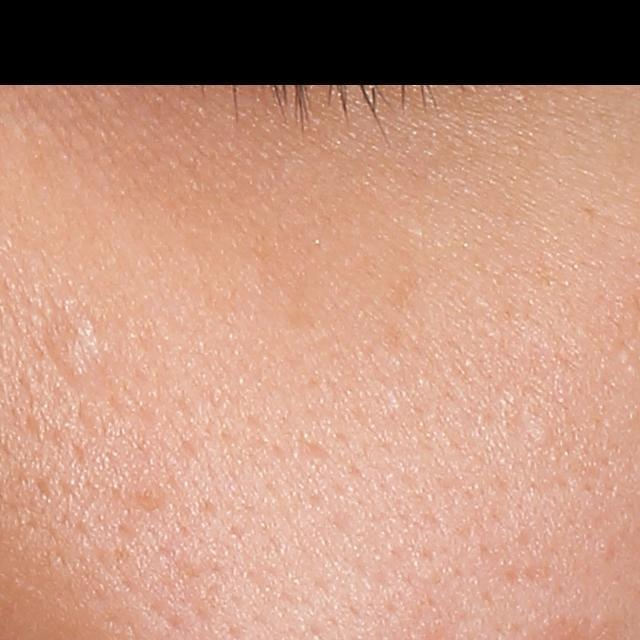atrophic_scar: (41, 304, 108, 394), (297, 436, 337, 464)
